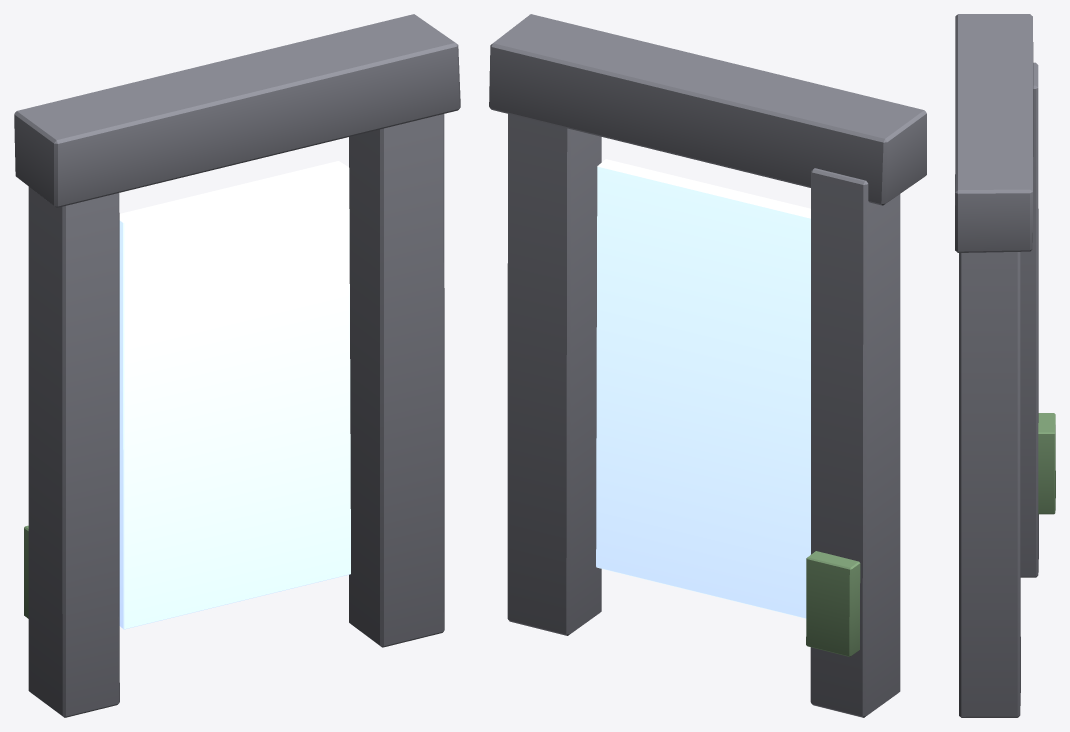
File: portal.glb
3 views of the same model, side by side, from view 1: azimuth 30°, elevation 25°; view 2: azimuth 150°, elevation 25°; view 3: azimuth 270°, elevation 25° (orthographic). The views are drawn at different scales.
Parts seen in each view (by area): view 1: Core, PillarR, PillarL, Arch; view 2: Core, PillarR, Arch, PillarL, Moss; view 3: PillarR, Arch, PillarL, Moss.
Boxes of the visible parts, x1,y1,x2,y2 form: Core: [119, 161, 350, 629]; PillarR: [349, 114, 444, 647]; PillarL: [28, 186, 119, 717]; Arch: [14, 14, 460, 207]; Core: [596, 159, 810, 618]; PillarR: [507, 114, 601, 635]; Arch: [489, 14, 926, 205]; PillarL: [810, 168, 900, 717]; Moss: [806, 551, 860, 656]; PillarR: [959, 252, 1020, 717]; Arch: [955, 14, 1033, 252]; PillarL: [1020, 62, 1038, 577]; Moss: [1038, 413, 1055, 514].
Bounding box in the file's own units: 1.88 × 2.6 × 0.4463.
